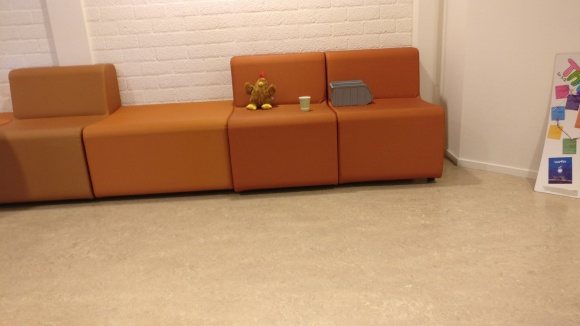chicken: (243, 70, 278, 111)
cup: (297, 94, 311, 112)
tray: (328, 77, 373, 107)
